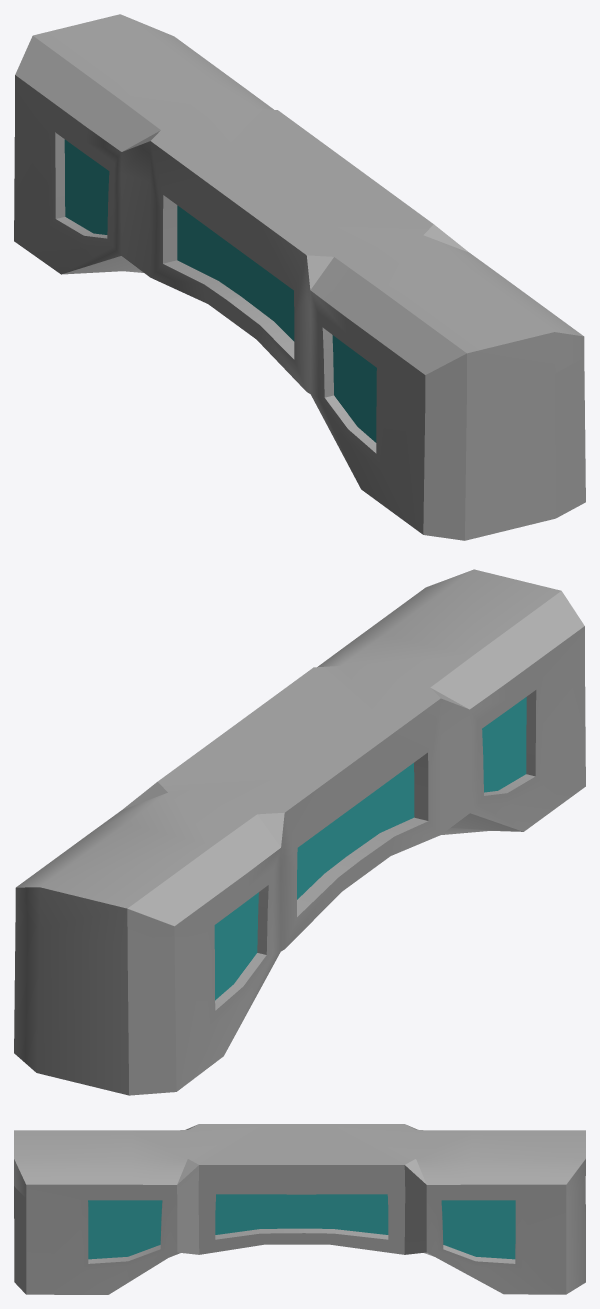
File: archscifi13.fbx
3 views of the same model, one above another, from view 1: azimuth 30°, elevation 25°; view 2: azimuth 150°, elevation 25°; view 3: azimuth 270°, elevation 25° (orthographic). The views are drawn at different scales.
Parts seen in each view (by area): view 1: polySurface20, polySurface18, polySurface22, polySurface19; view 2: polySurface20, polySurface18, polySurface19, polySurface22; view 3: polySurface20, polySurface15, polySurface21, polySurface16.
Boxes of the visible parts, x1,y1,x2,y2 form: polySurface20: [14, 14, 585, 540]; polySurface18: [177, 205, 294, 341]; polySurface22: [64, 139, 109, 234]; polySurface19: [332, 335, 376, 442]; polySurface20: [14, 569, 585, 1095]; polySurface18: [297, 763, 414, 899]; polySurface19: [482, 697, 526, 792]; polySurface22: [214, 892, 258, 1000]; polySurface20: [14, 1124, 585, 1294]; polySurface15: [215, 1194, 388, 1234]; polySurface21: [441, 1200, 515, 1259]; polySurface16: [88, 1200, 162, 1259].
Bounding box in the file's own units: 0.2387 × 0.2633 × 1.11.
